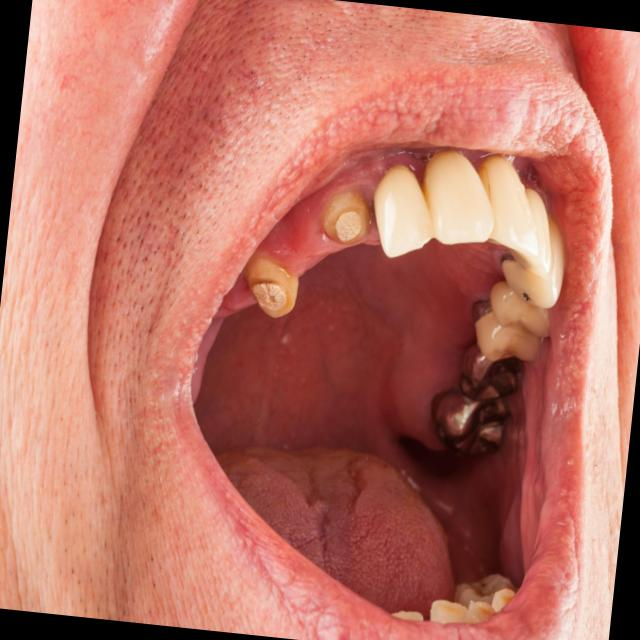Caries: (500, 255, 515, 264), (523, 292, 530, 301)
Cavity: (472, 299, 492, 324)
Tooth: (423, 149, 495, 245), (477, 154, 538, 258), (500, 215, 564, 308), (373, 165, 434, 258), (472, 299, 539, 362), (507, 187, 552, 280), (489, 280, 549, 337), (243, 256, 298, 317), (322, 192, 370, 245)
